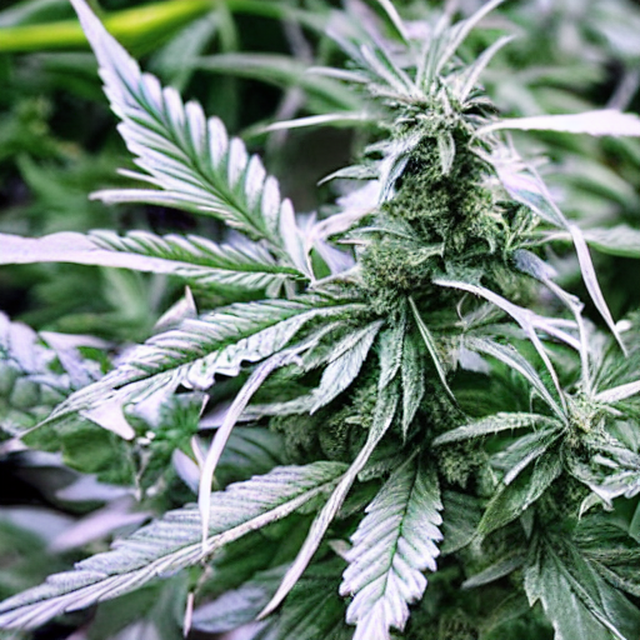Marijuana Plant: (132, 1, 639, 532)
